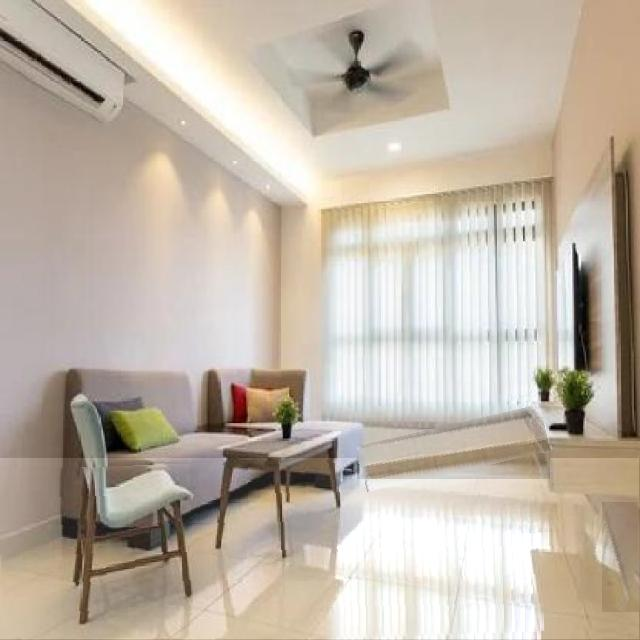floor: (1, 459, 640, 639), (357, 417, 550, 479), (602, 503, 639, 612)
